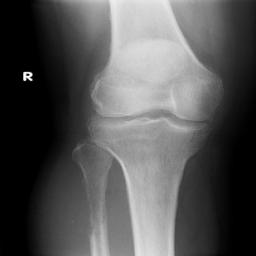cancer: (81, 168, 107, 240)
